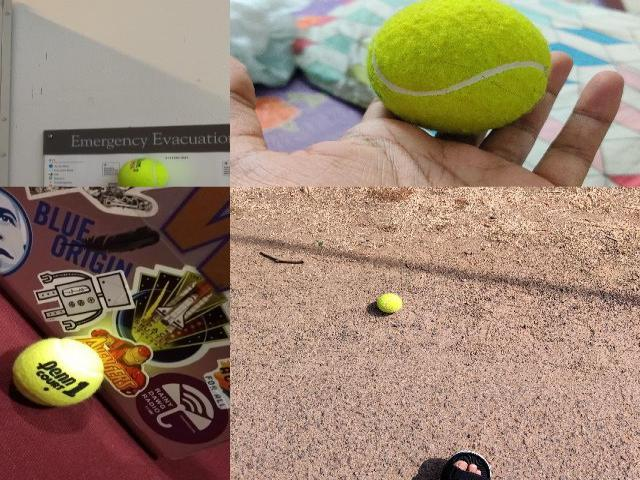tennis-ball: (365, 0, 551, 136), (10, 337, 104, 407), (117, 158, 170, 186), (376, 294, 402, 312)
